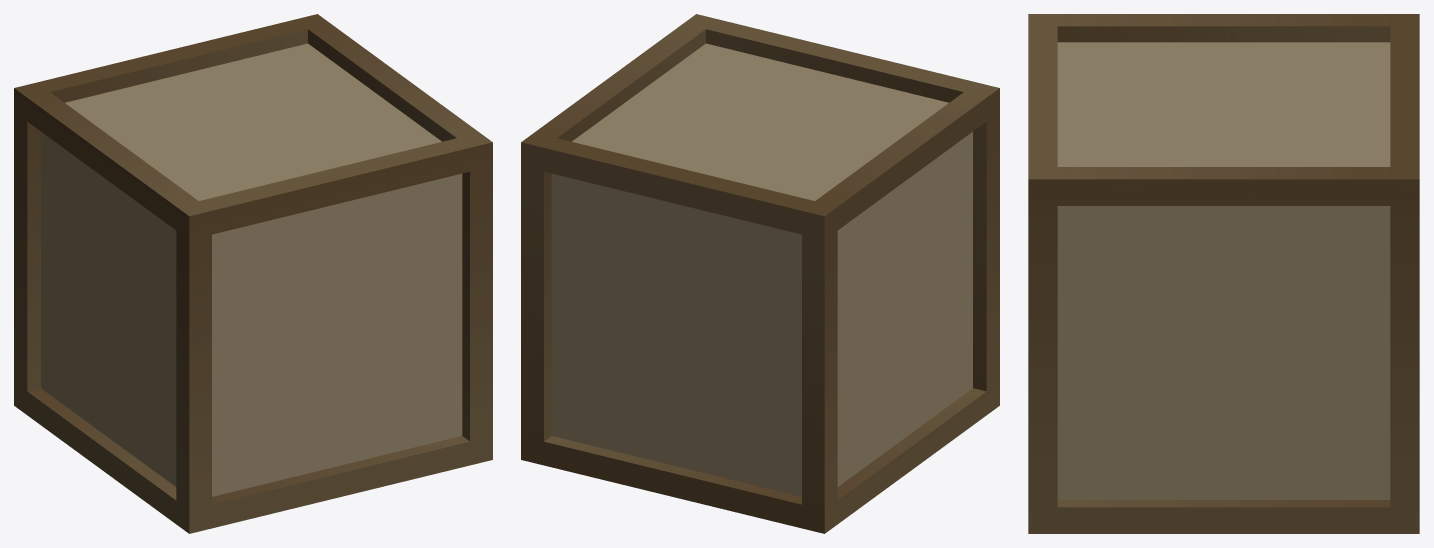
Rendered from Crate_1A_LOD1.fbx.
3 renders of one model, left to right at view 1: azimuth 30°, elevation 25°; view 2: azimuth 150°, elevation 25°; view 3: azimuth 270°, elevation 25°, orthographic. The views are drawn at different scales.
Parts seen in each view (by area): view 1: polySurface9642; view 2: polySurface9642; view 3: polySurface9642.
Boxes of the visible parts, x1,y1,x2,y2 form: polySurface9642: [14, 14, 492, 533]; polySurface9642: [521, 14, 999, 533]; polySurface9642: [1028, 14, 1419, 533].
Bounding box in the file's own units: 120 × 120 × 120.
